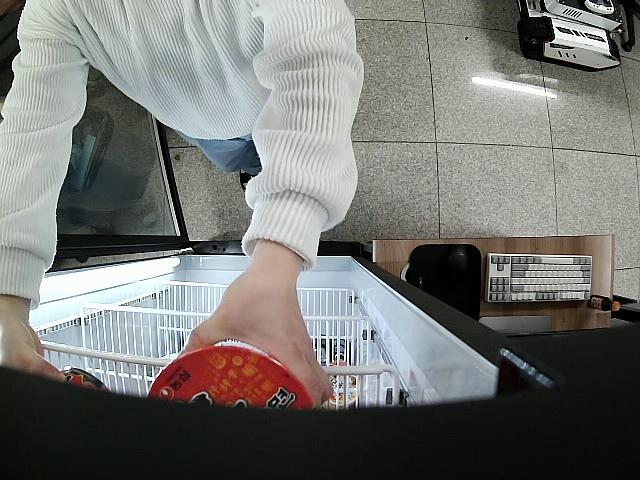00_hand: (185, 249, 334, 404), (0, 314, 70, 387)
01_shinRamen_L: (148, 349, 316, 417), (51, 368, 112, 394)
